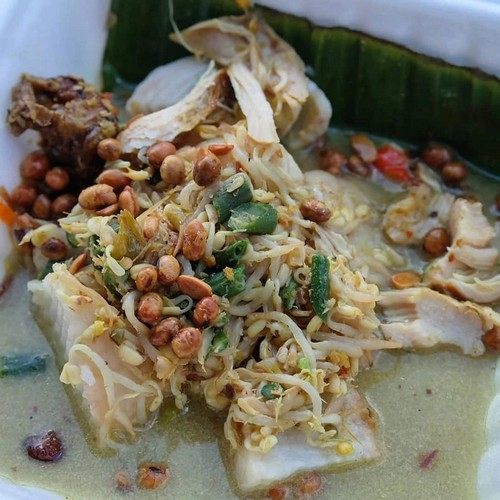tipat blayag: (31, 36, 480, 480)
